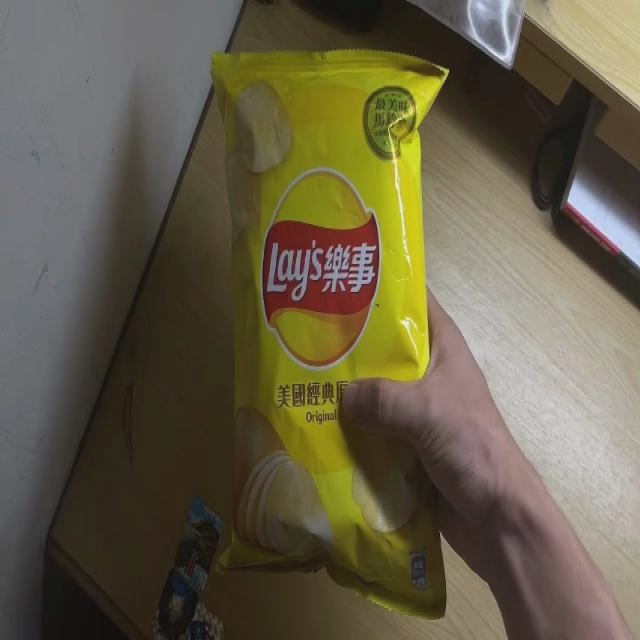Lay-s-original: (209, 46, 450, 618)
